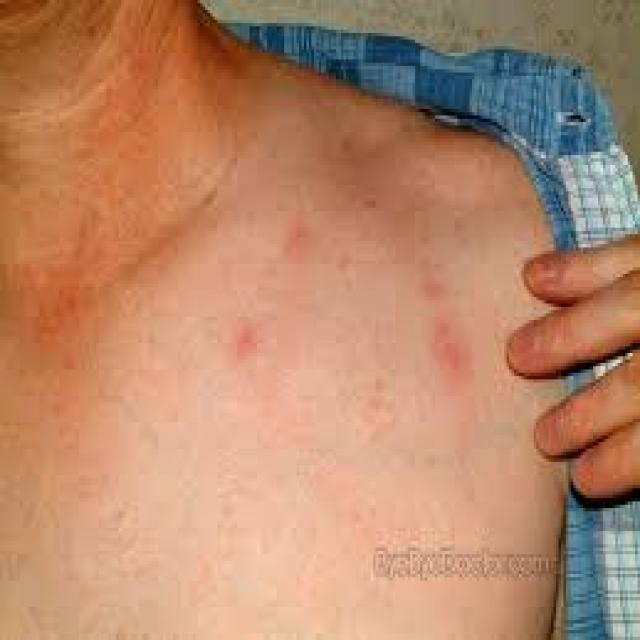kan emici bocekler: (156, 147, 501, 429)
